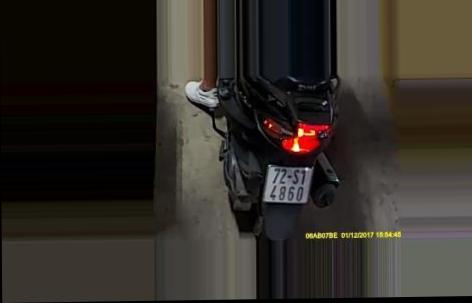License_Plate: (266, 162, 311, 206)
